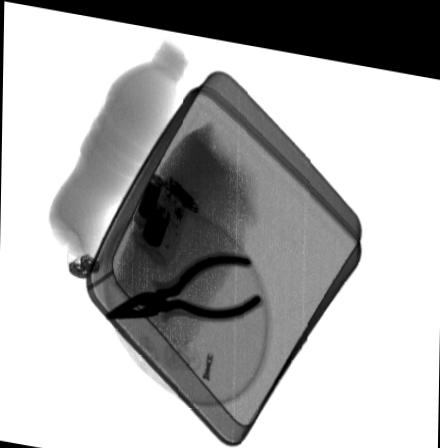Pliers: (102, 242, 263, 318)
